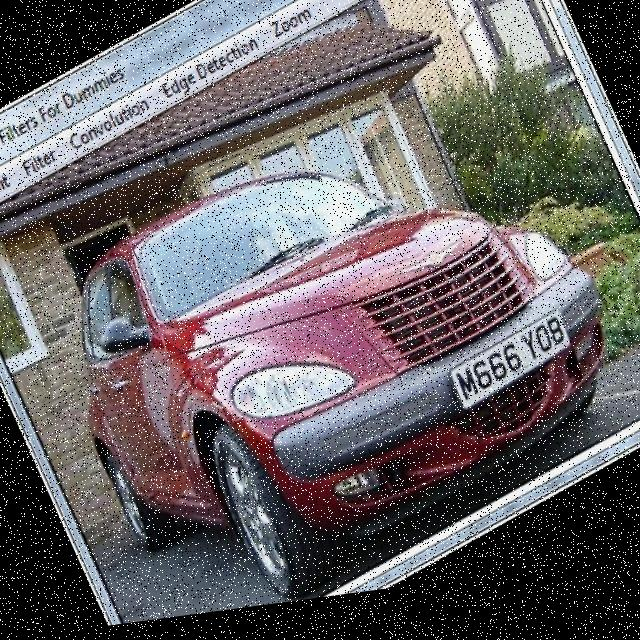license_plate: (450, 324, 572, 420)
